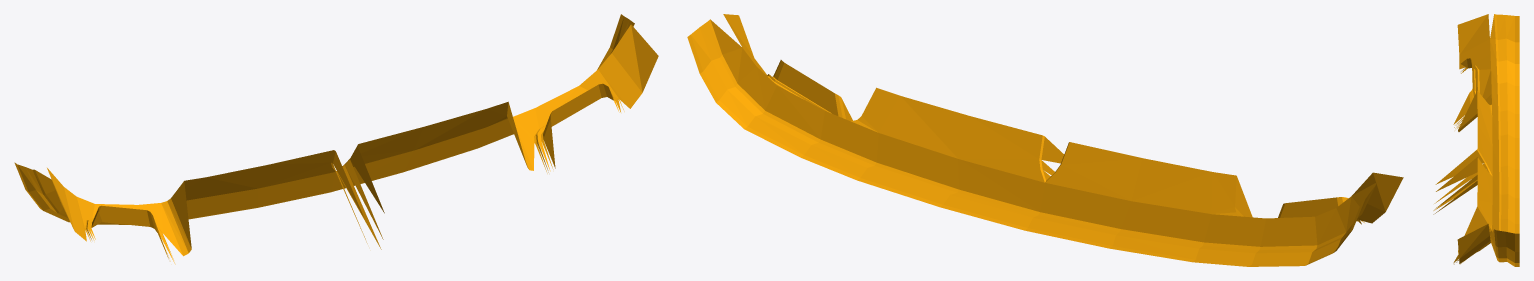
Rendered from original-180sx-front-section.glb.
3 renders of one model, left to right at view 1: azimuth 30°, elevation 25°; view 2: azimuth 150°, elevation 25°; view 3: azimuth 270°, elevation 25°, orthographic. The views are drawn at different scales.
Visible parts, largest first — view 1: nissan_180sx_1989_updated.glb; view 2: nissan_180sx_1989_updated.glb; view 3: nissan_180sx_1989_updated.glb.
Boxes of the visible parts, bbox=[...] form: nissan_180sx_1989_updated.glb: bbox=[14, 14, 658, 264]; nissan_180sx_1989_updated.glb: bbox=[687, 14, 1403, 266]; nissan_180sx_1989_updated.glb: bbox=[1433, 14, 1519, 266].
Size of the model in its own units: 1.49 by 0.3033 by 0.2525.
